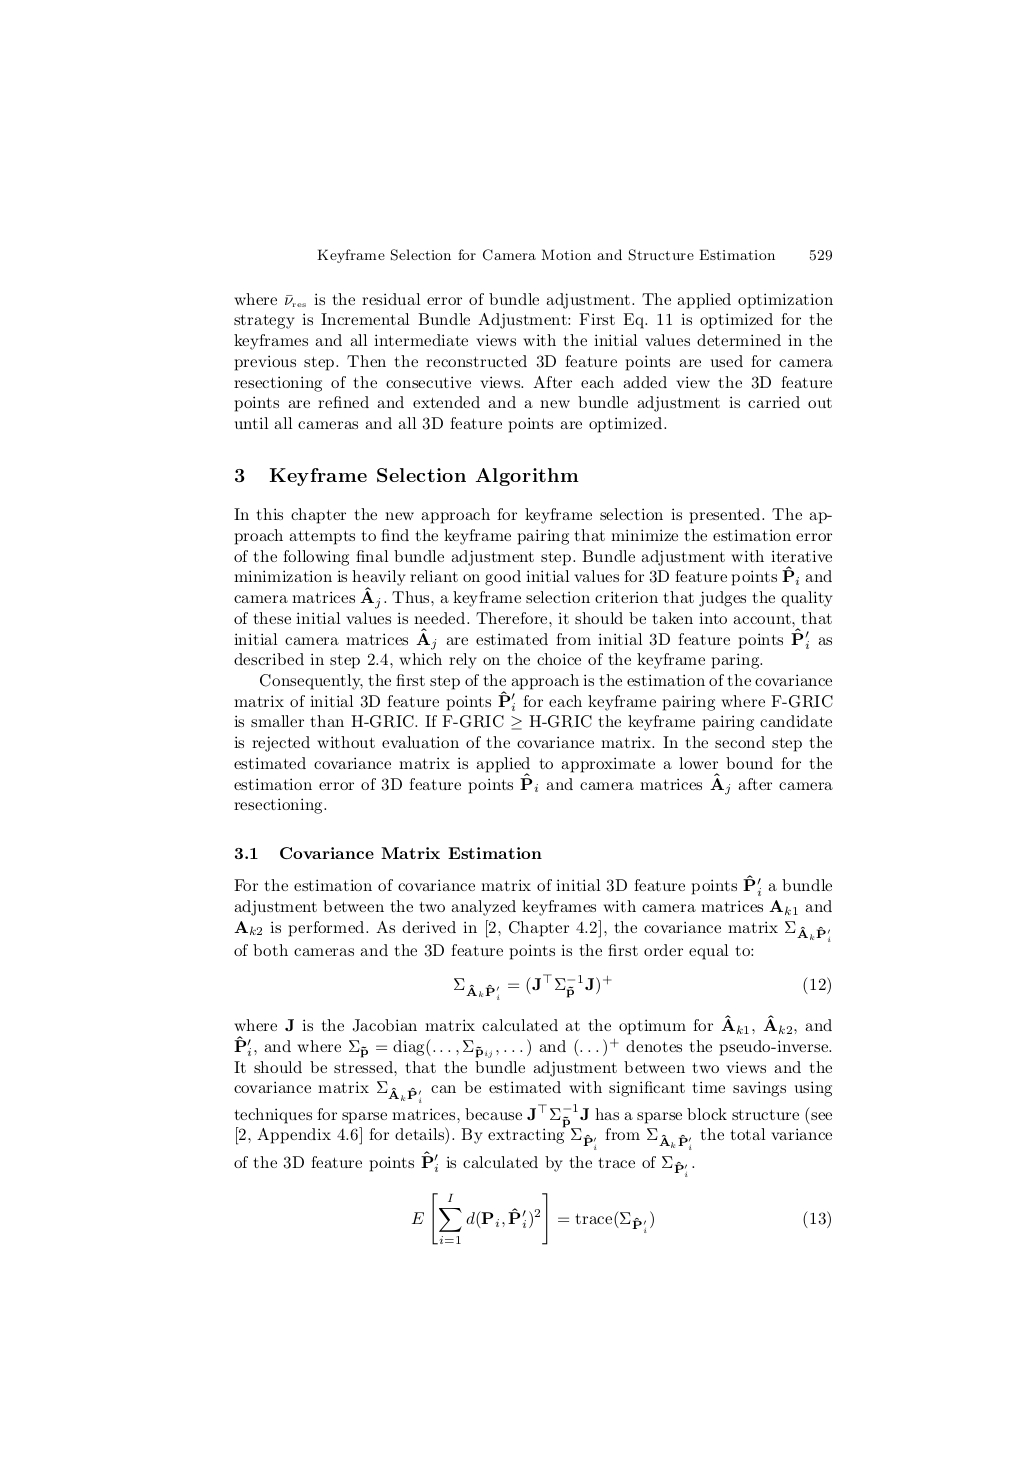formula: (411, 1191, 830, 1245), (454, 973, 830, 1001)
